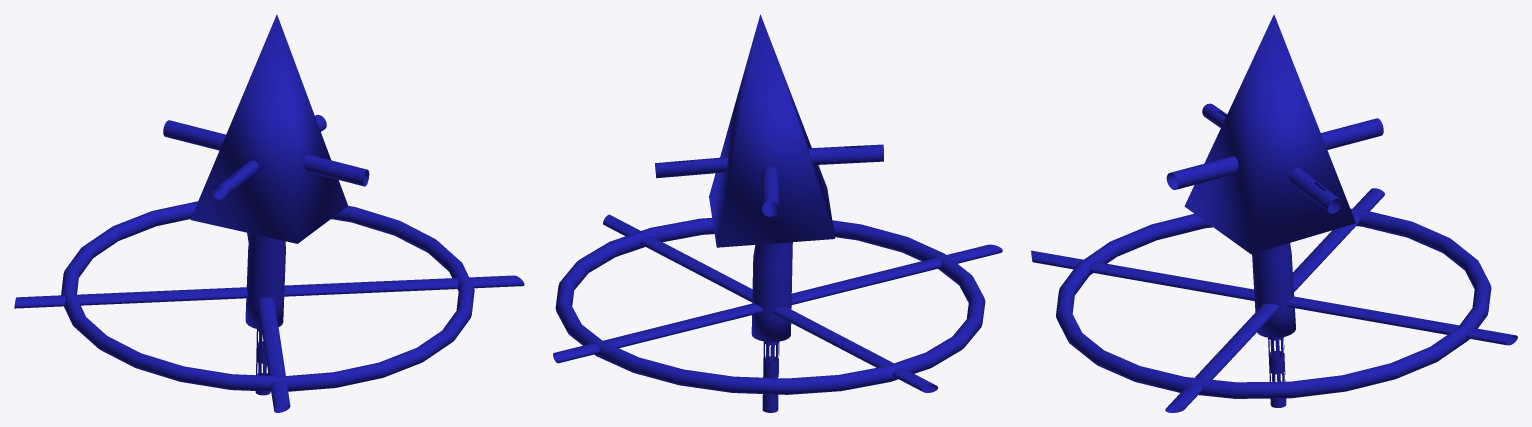
Rendered from chopper.obj.
The picture shows the model from 3 angles, left to right: view 1: azimuth 30°, elevation 25°; view 2: azimuth 150°, elevation 25°; view 3: azimuth 270°, elevation 25°; orthographic projection. The views are drawn at different scales.
Visible parts, largest first — view 1: chopper_top; view 2: chopper_top; view 3: chopper_top.
Boxes of the visible parts, x1=… form: chopper_top: x1=14, y1=14, x2=524, y2=412; chopper_top: x1=553, y1=14, x2=1002, y2=412; chopper_top: x1=1031, y1=14, x2=1517, y2=412.
Bounding box in the file's own units: 120 × 105 × 116.
